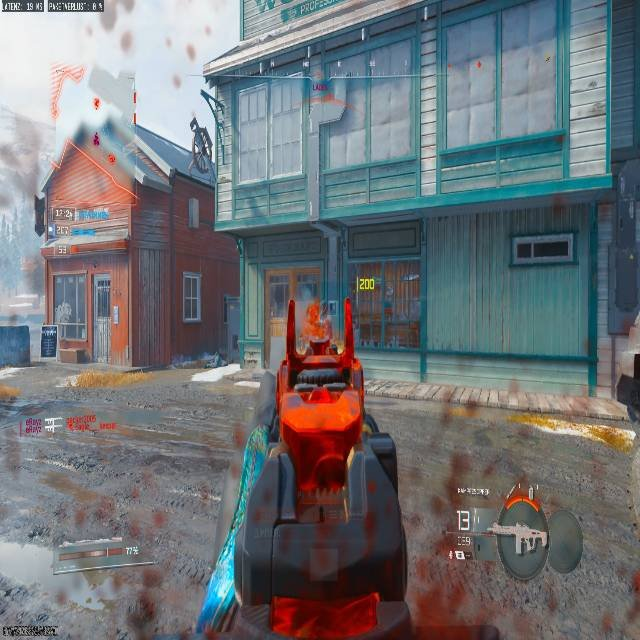player: (300, 302, 330, 341)
